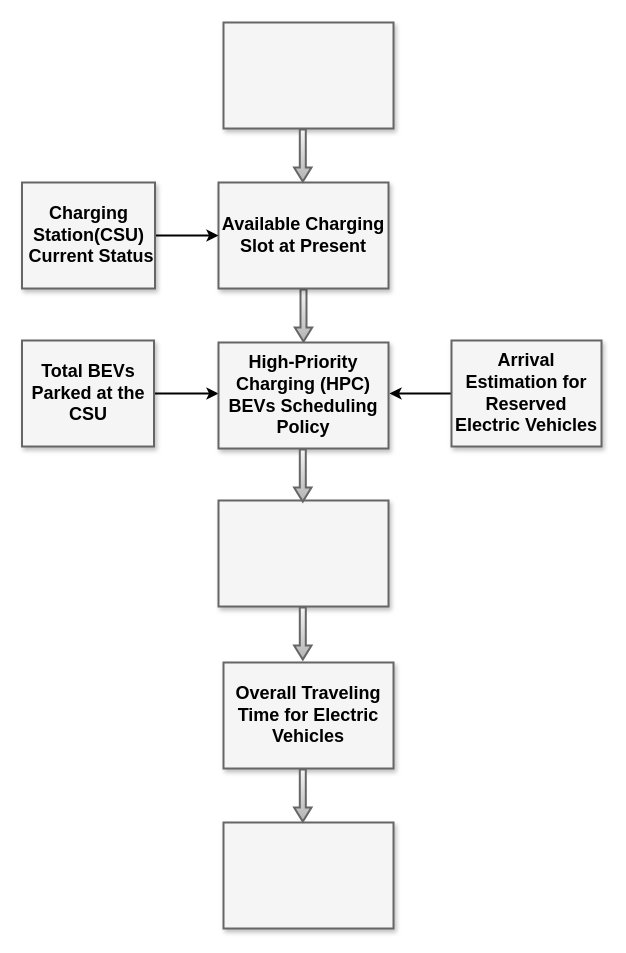
Some shapes in this 626 by 953 pixel diagram are drawn without their labels. Each missing label, with the centre of its shape:
"Calculate Charging Waiting Period" belongs at (304,554).
"CSUs Information Broadcast to the BEVs" belongs at (309,76).
"Selection of Charging Station with Minimum Total Trip Duration" belongs at (309,876).
